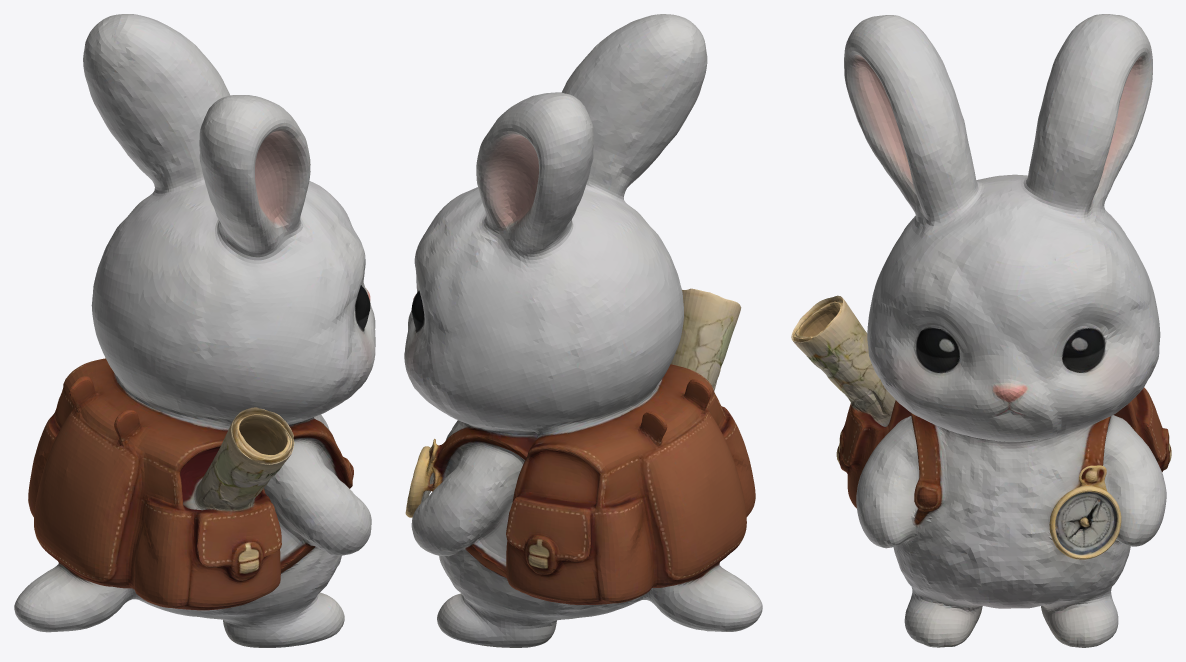
The model's file is special-02.glb.
The picture shows the model from 3 angles, left to right: view 1: azimuth 30°, elevation 25°; view 2: azimuth 150°, elevation 25°; view 3: azimuth 270°, elevation 25°; orthographic projection.
Parts seen in each view (by area): view 1: tripo_node_05033d5d-1573-4900-8617-495aa3b67340; view 2: tripo_node_05033d5d-1573-4900-8617-495aa3b67340; view 3: tripo_node_05033d5d-1573-4900-8617-495aa3b67340.
Part boxes in pixels (x1=…): tripo_node_05033d5d-1573-4900-8617-495aa3b67340: x1=14, y1=14, x2=375, y2=647; tripo_node_05033d5d-1573-4900-8617-495aa3b67340: x1=404, y1=14, x2=762, y2=647; tripo_node_05033d5d-1573-4900-8617-495aa3b67340: x1=791, y1=14, x2=1171, y2=647.
Bounding box in the file's own units: 0.6322 × 0.9985 × 0.6006.
1 material, 1 textured.
